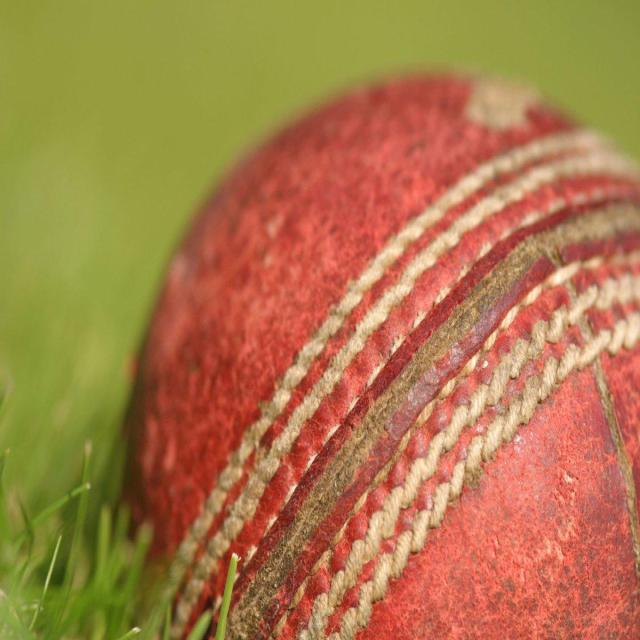ball: (127, 80, 640, 640)
